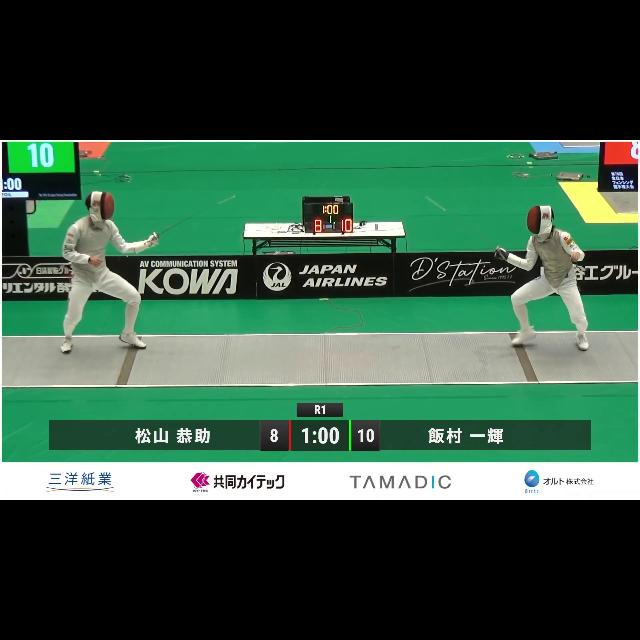blade: (419, 186, 508, 258), (150, 192, 238, 244)
